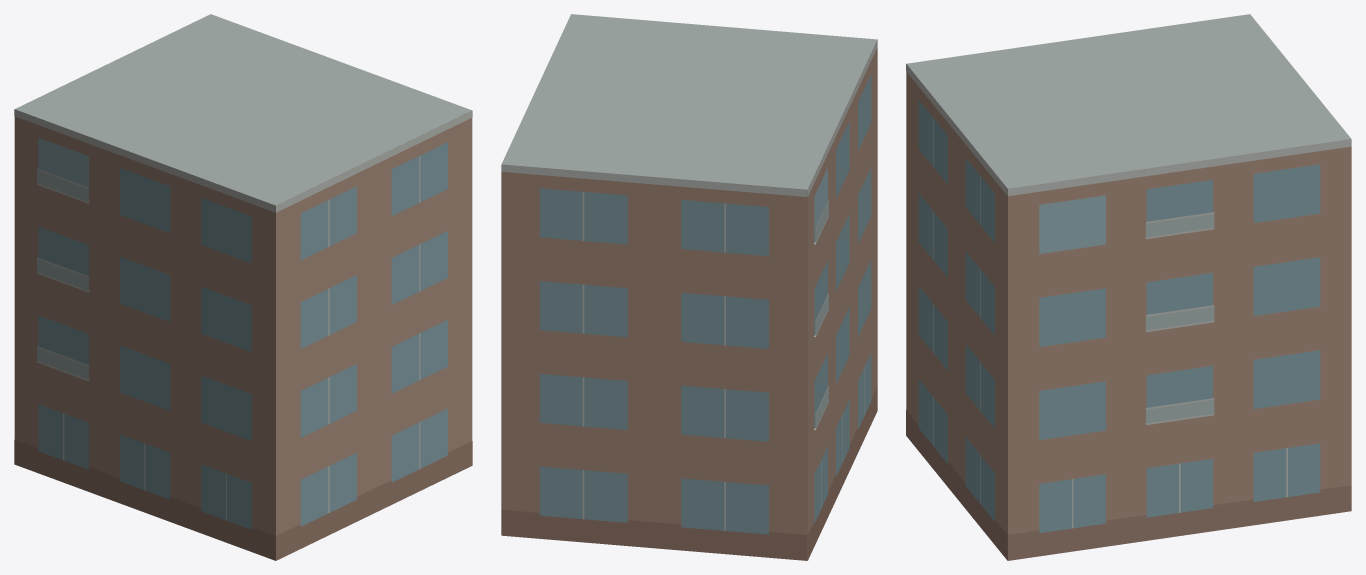
File: residential-e7c55775-5d74-4dd2-8b6d-5cad45271dbe.glb
The picture shows the model from 3 angles, left to right: view 1: azimuth 30°, elevation 25°; view 2: azimuth 150°, elevation 25°; view 3: azimuth 270°, elevation 25°; orthographic projection. The views are drawn at different scales.
Parts seen in each view (by area): view 1: residential-e7c55775-5d74-4dd2-8b6d-5cad45271dbe.tmp; view 2: residential-e7c55775-5d74-4dd2-8b6d-5cad45271dbe.tmp; view 3: residential-e7c55775-5d74-4dd2-8b6d-5cad45271dbe.tmp.
Part boxes in pixels (left/top/right/bottom): residential-e7c55775-5d74-4dd2-8b6d-5cad45271dbe.tmp: left=14, top=14, right=472, bottom=560; residential-e7c55775-5d74-4dd2-8b6d-5cad45271dbe.tmp: left=501, top=14, right=877, bottom=560; residential-e7c55775-5d74-4dd2-8b6d-5cad45271dbe.tmp: left=906, top=14, right=1351, bottom=560.
Bounding box in the file's own units: 12.31 × 12.2 × 13.25.
